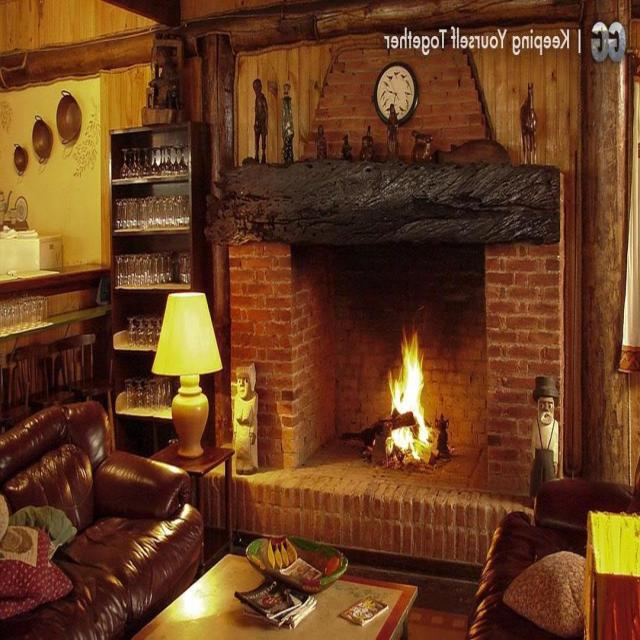Fire: (382, 318, 434, 468)
